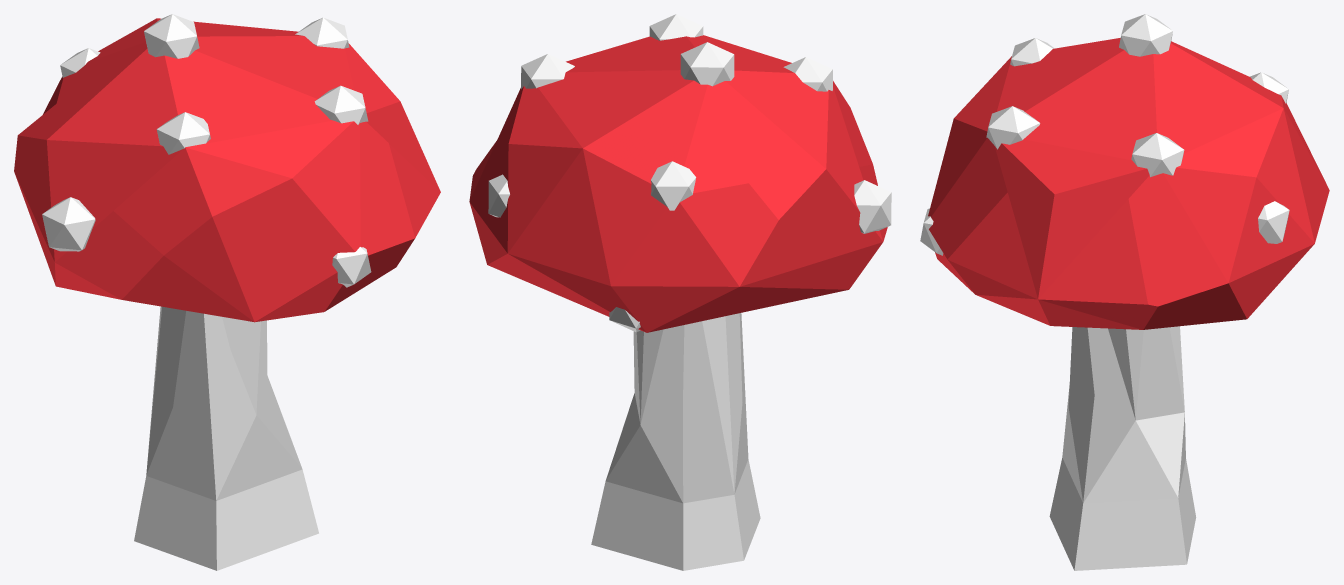
File: mushroom.fbx
The picture shows the model from 3 angles, left to right: view 1: azimuth 30°, elevation 25°; view 2: azimuth 150°, elevation 25°; view 3: azimuth 270°, elevation 25°; orthographic projection. The views are drawn at different scales.
Parts seen in each view (by area): view 1: Mushroom; view 2: Mushroom; view 3: Mushroom.
Boxes of the visible parts, x1=… form: Mushroom: x1=14, y1=14, x2=440, y2=570; Mushroom: x1=469, y1=14, x2=891, y2=570; Mushroom: x1=920, y1=14, x2=1329, y2=570.
Size of the model in its own units: 90.16 by 115 by 84.61.
